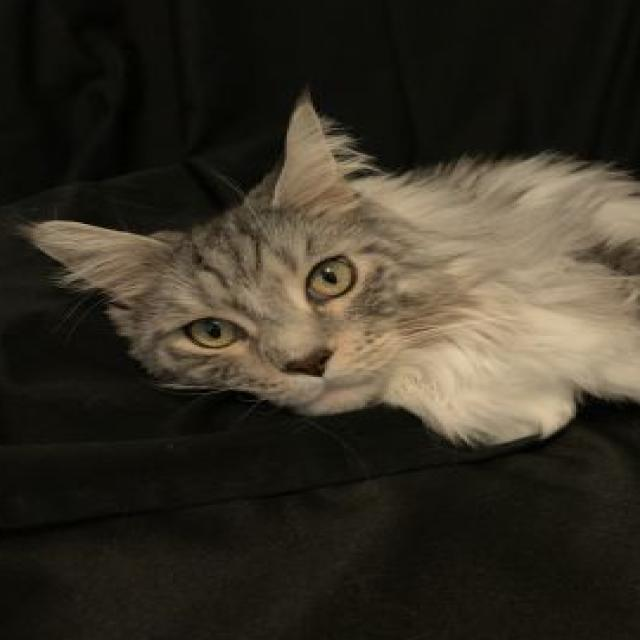Maine Coon: (26, 93, 640, 455)
